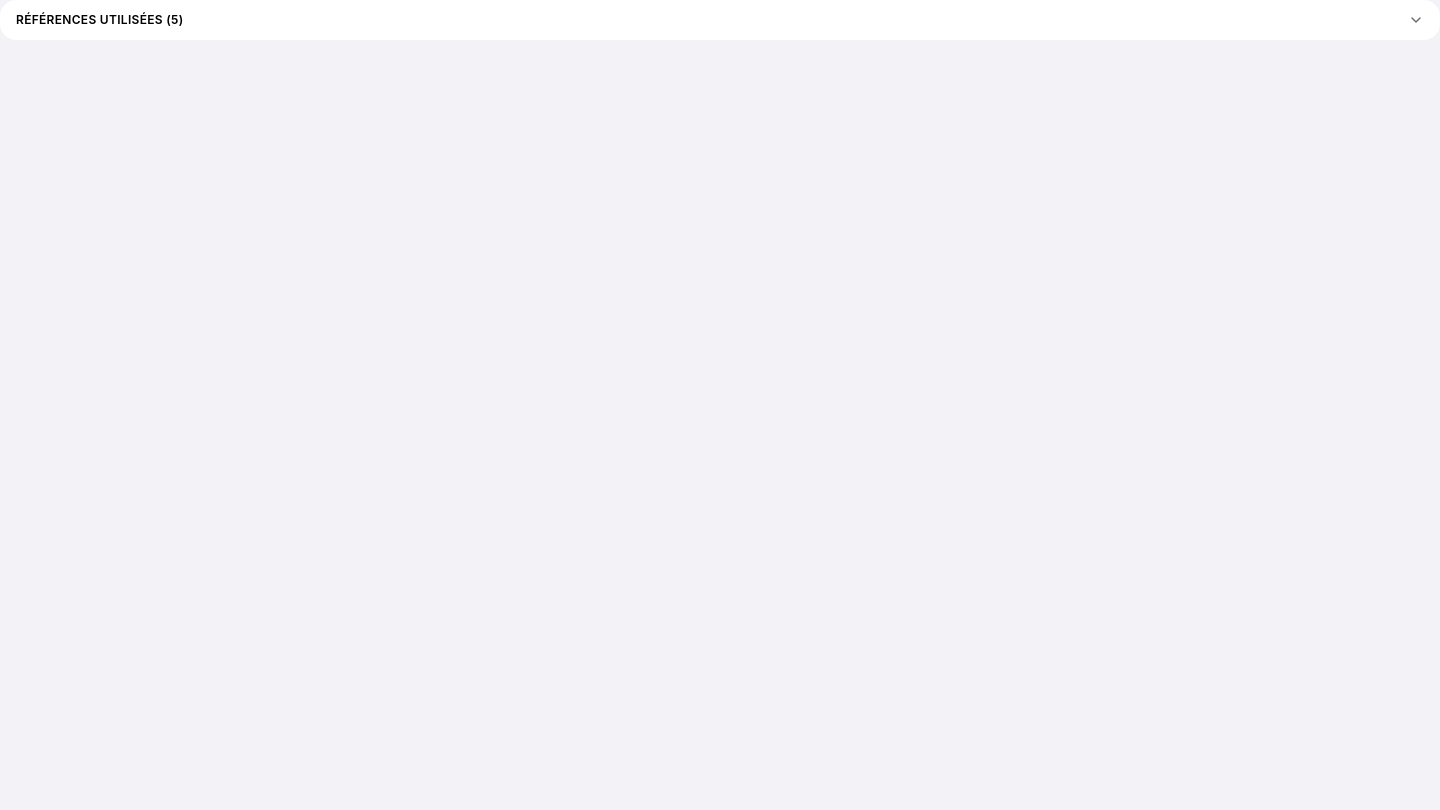
it: ReferencesPanel › ouvre le post complet, permet de l'exclure, puis propose de régénérer
Later steps or results of the test are not shown.
Click the button "Références utilisées (5)": [93, 20] box [0,0,1439,40]
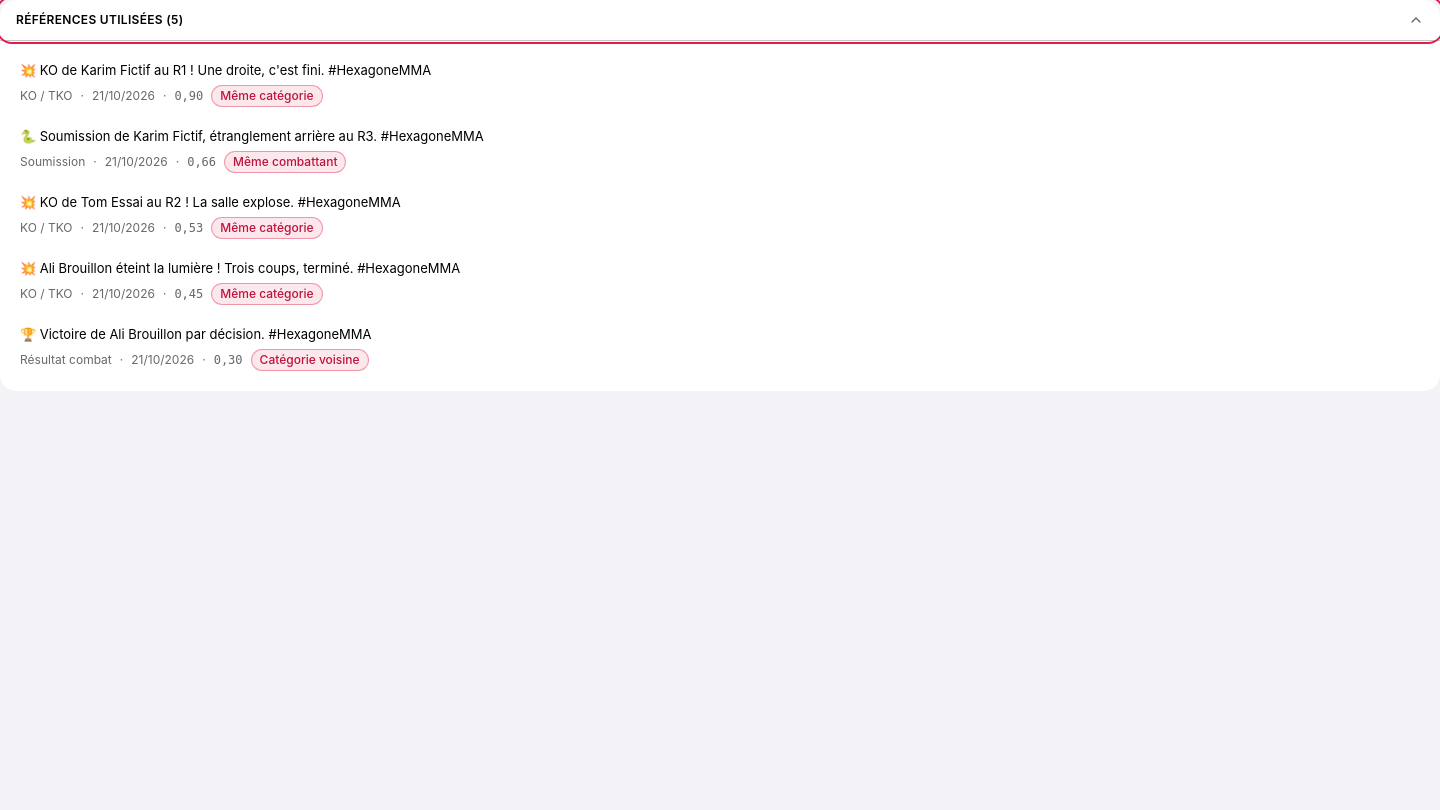
Expected: the button "Régénérer" is not shown
Click the button with aria-label "Voir la référence": [226, 70] box [12,53,1428,115]
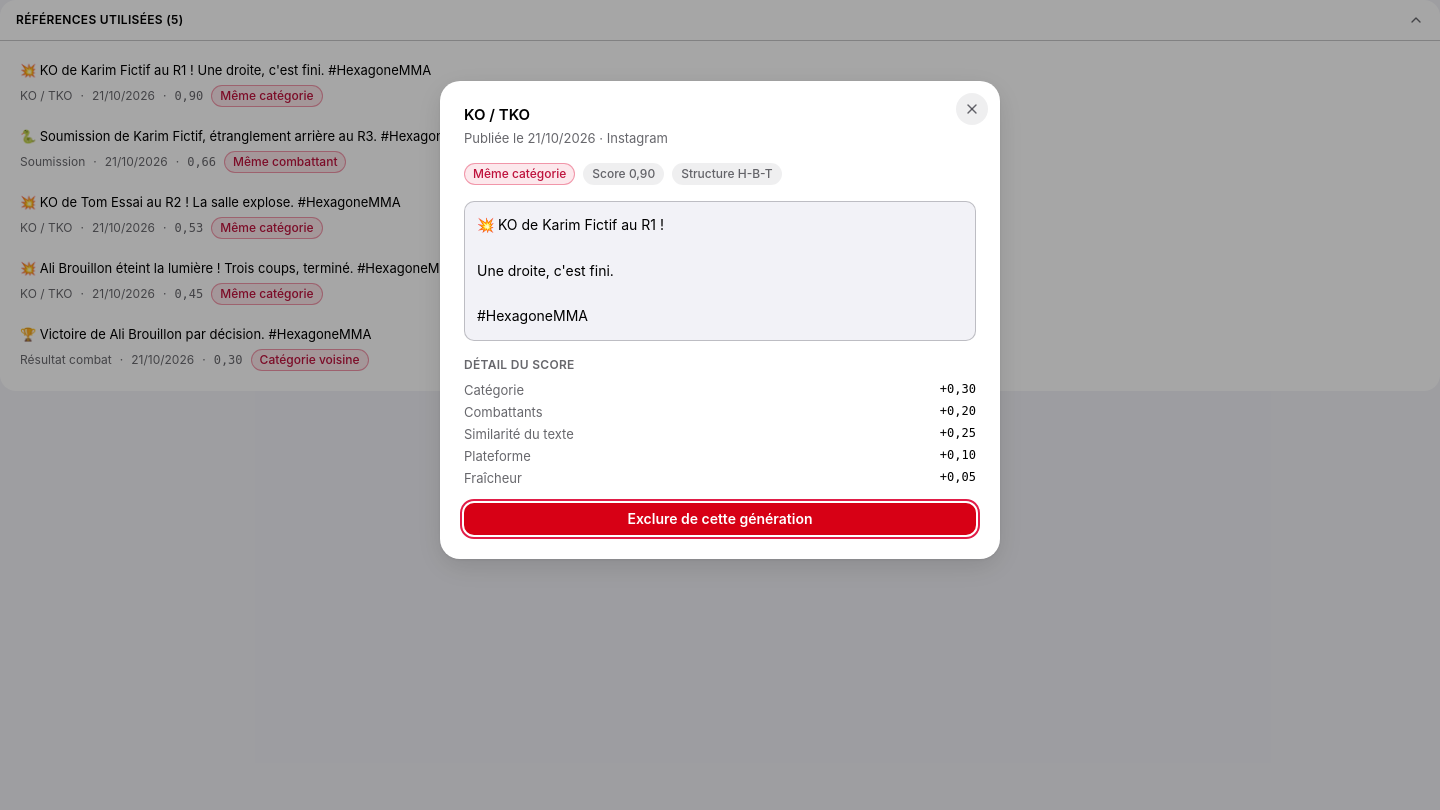
Expected: the text "Une droite, c'est fini" is shown, [477,216,664,324]
Expected: the heading "Détail du score" is shown, [464,357,575,372]
Click the button "Exclure de cette génération": [720, 519] box [464,503,976,535]
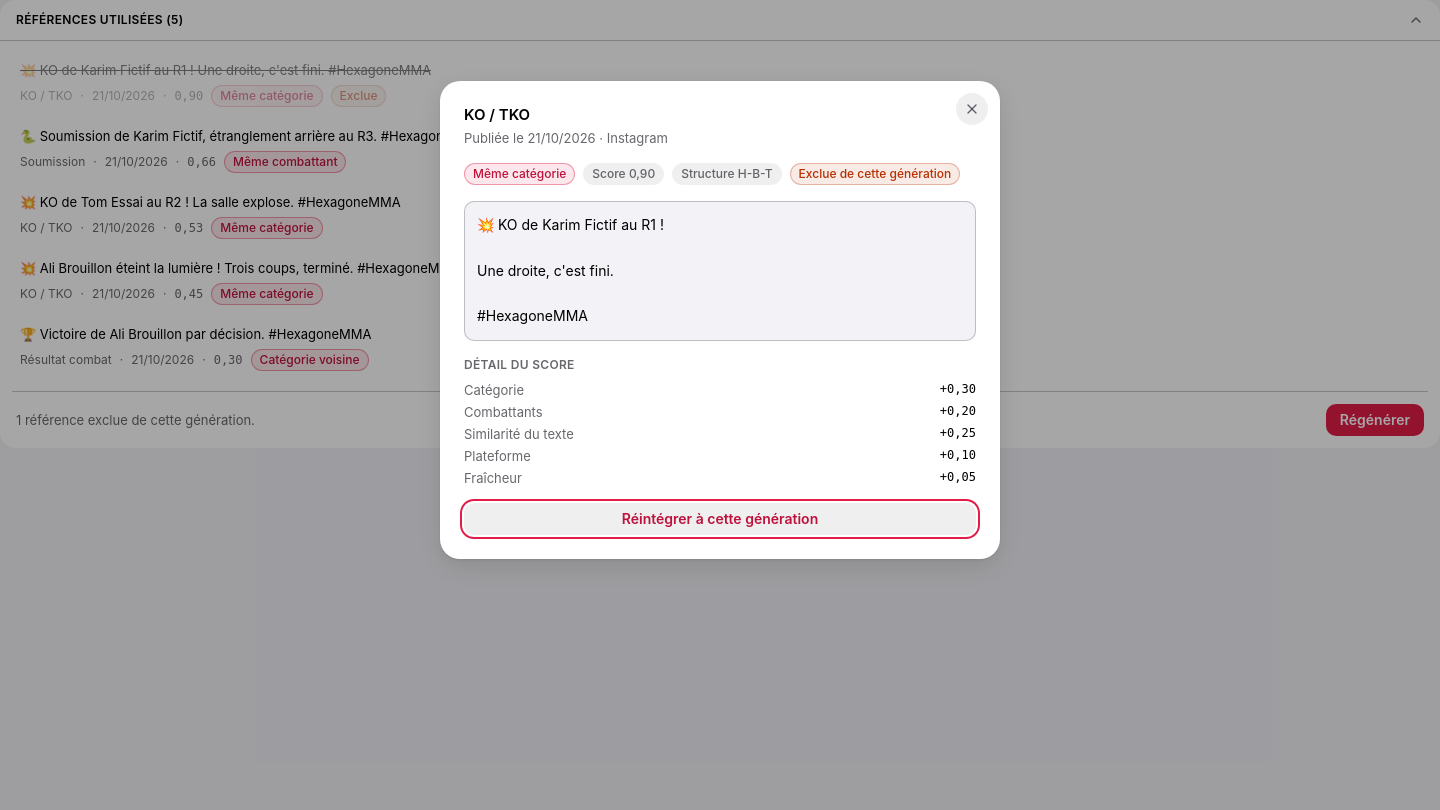
Expected: the button "Réintégrer à cette génération" is shown, [464,503,976,535]
Press Escape
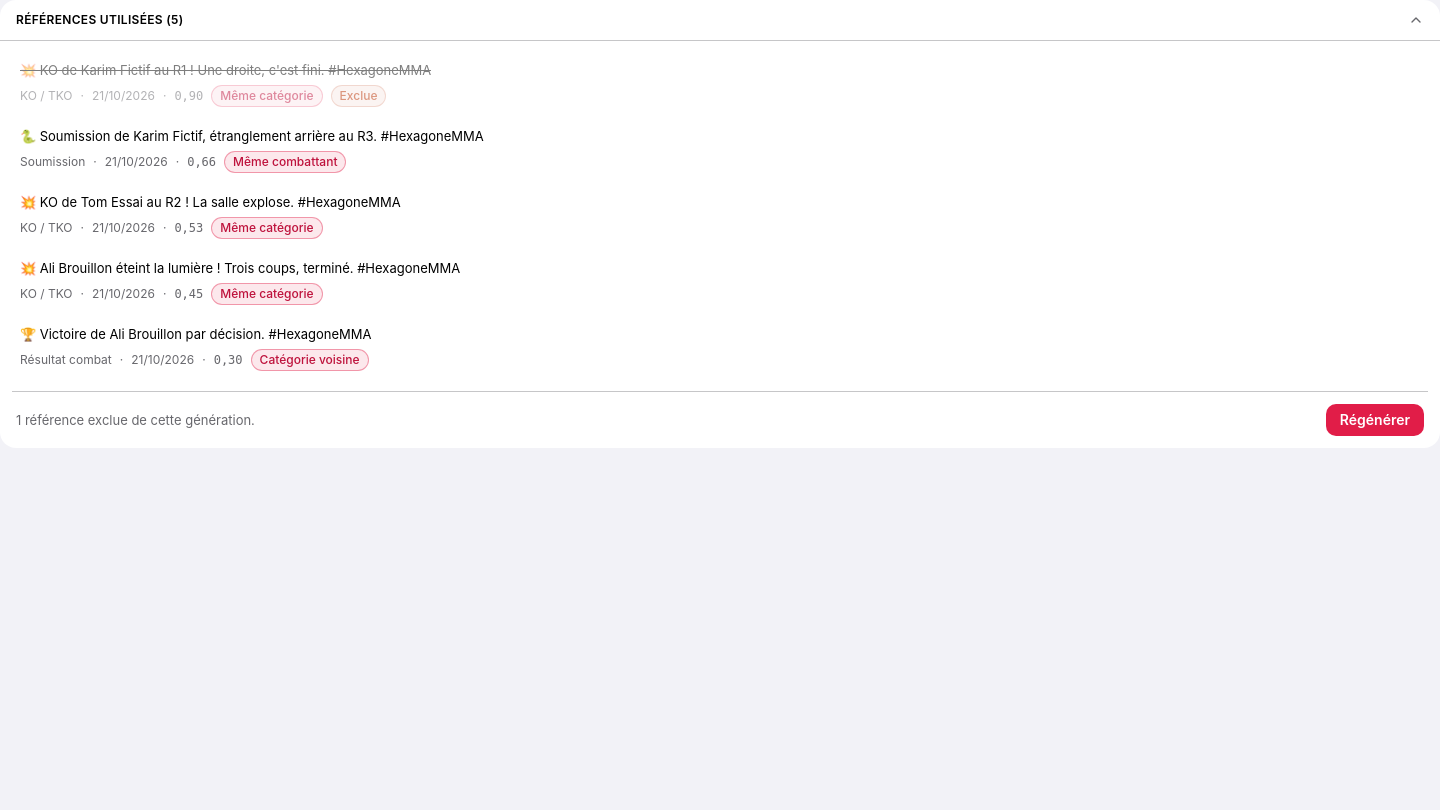
Expected: the text "1 référence exclue de cette génération." is shown, [16,411,255,429]
Expected: the dialog is gone
